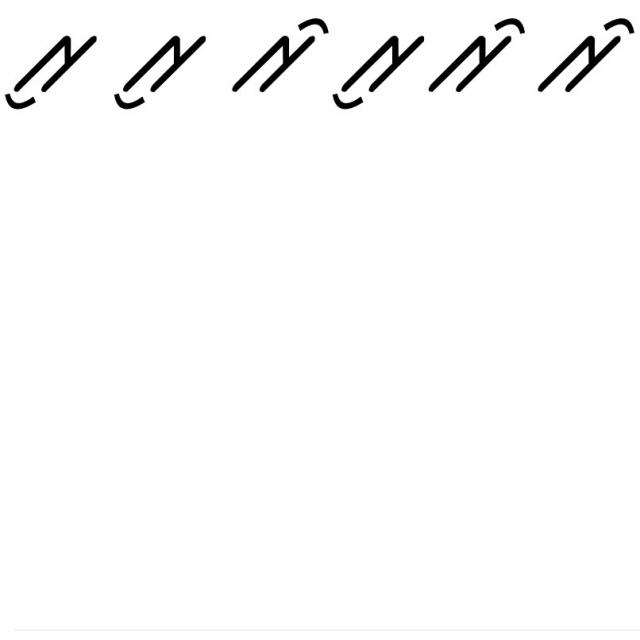waw: (112, 22, 206, 115), (5, 26, 100, 118), (332, 31, 426, 114)
way: (227, 9, 331, 101), (533, 7, 635, 95), (430, 12, 529, 98)
